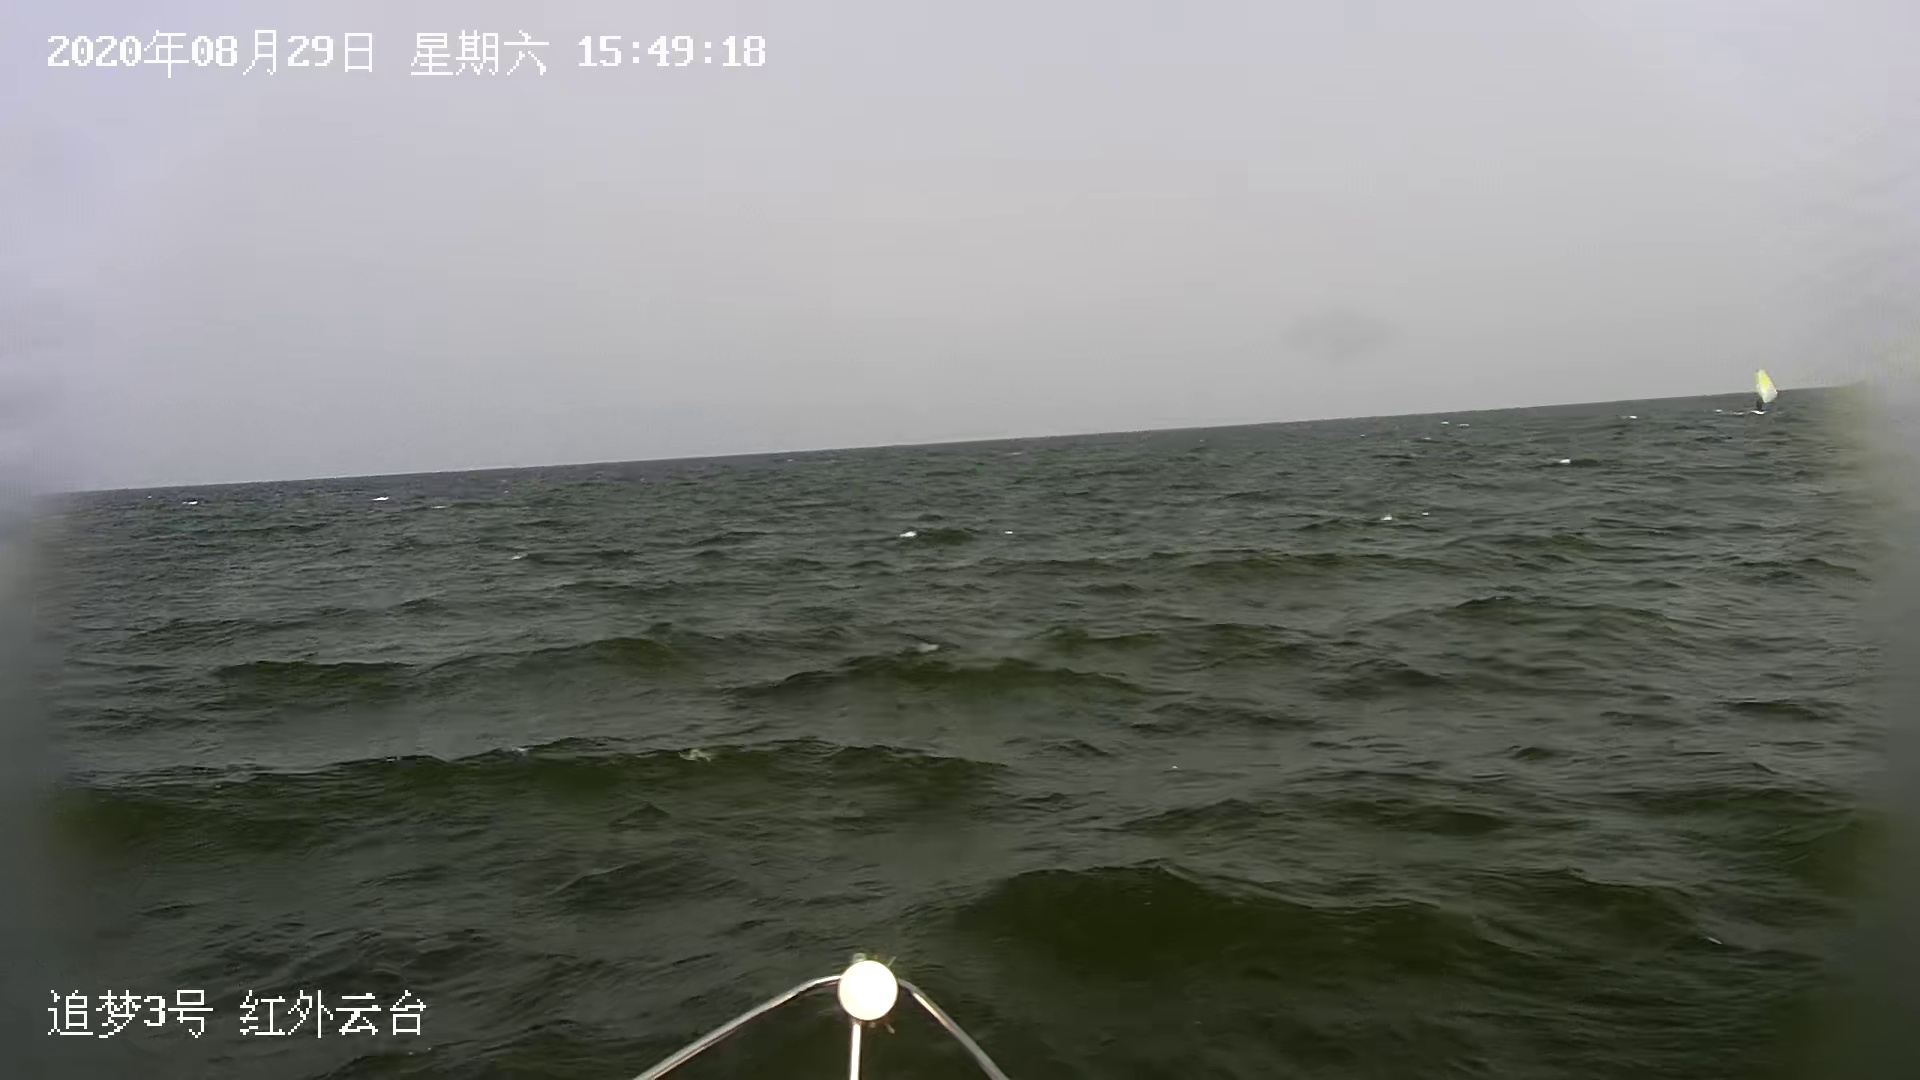barrier: (1749, 363, 1775, 415)
